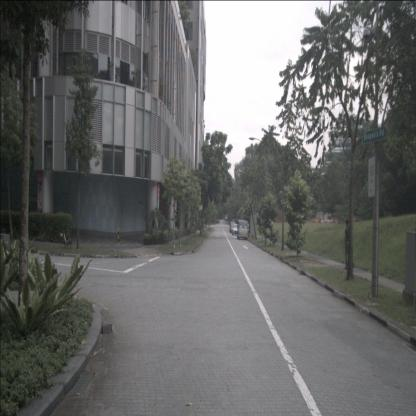human-pedestrian-adult: (343, 219, 354, 270)
vehicle-bicycle: (60, 230, 71, 249)
vehicle-car: (237, 219, 248, 240), (232, 224, 240, 235), (229, 221, 236, 232), (230, 224, 238, 233)
